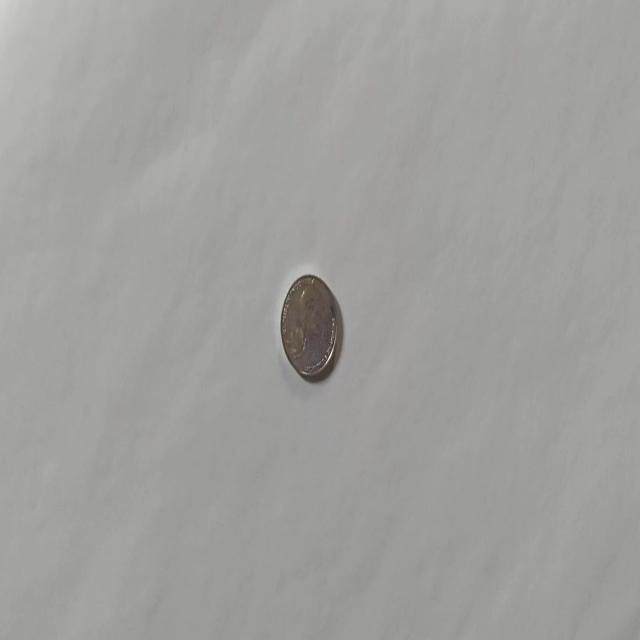lima ratus rupiah: (279, 272, 338, 381)
